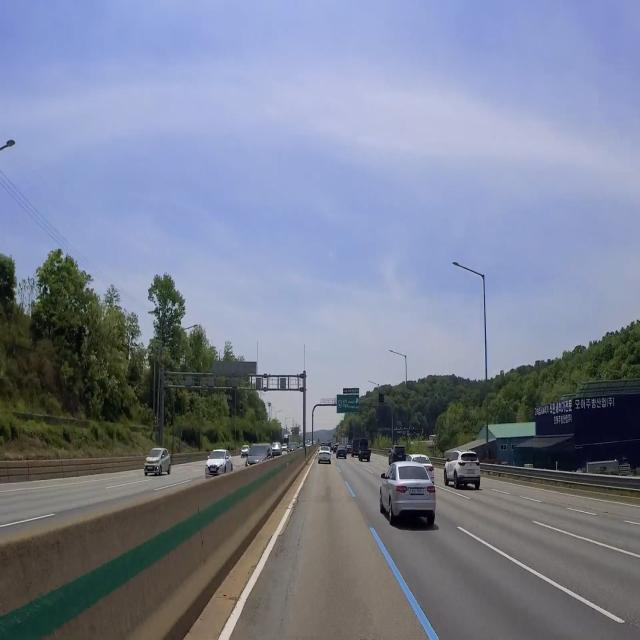car: (407, 486, 426, 496), (464, 468, 476, 481), (210, 465, 217, 473), (146, 464, 154, 471), (320, 455, 328, 461), (397, 454, 404, 458), (340, 451, 344, 457), (363, 454, 369, 458)
